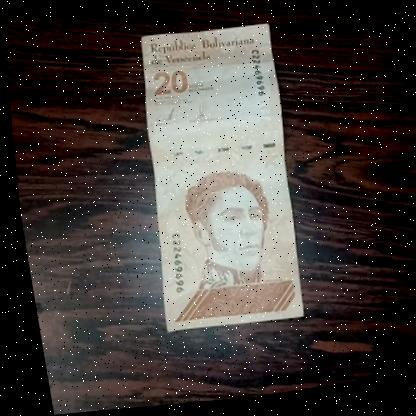twenty-front-vef: (115, 19, 311, 345)
